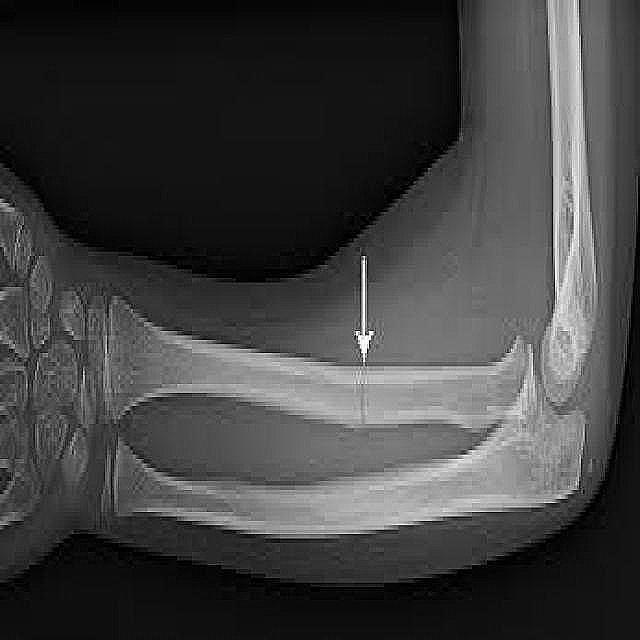bone: (325, 356, 393, 436)
